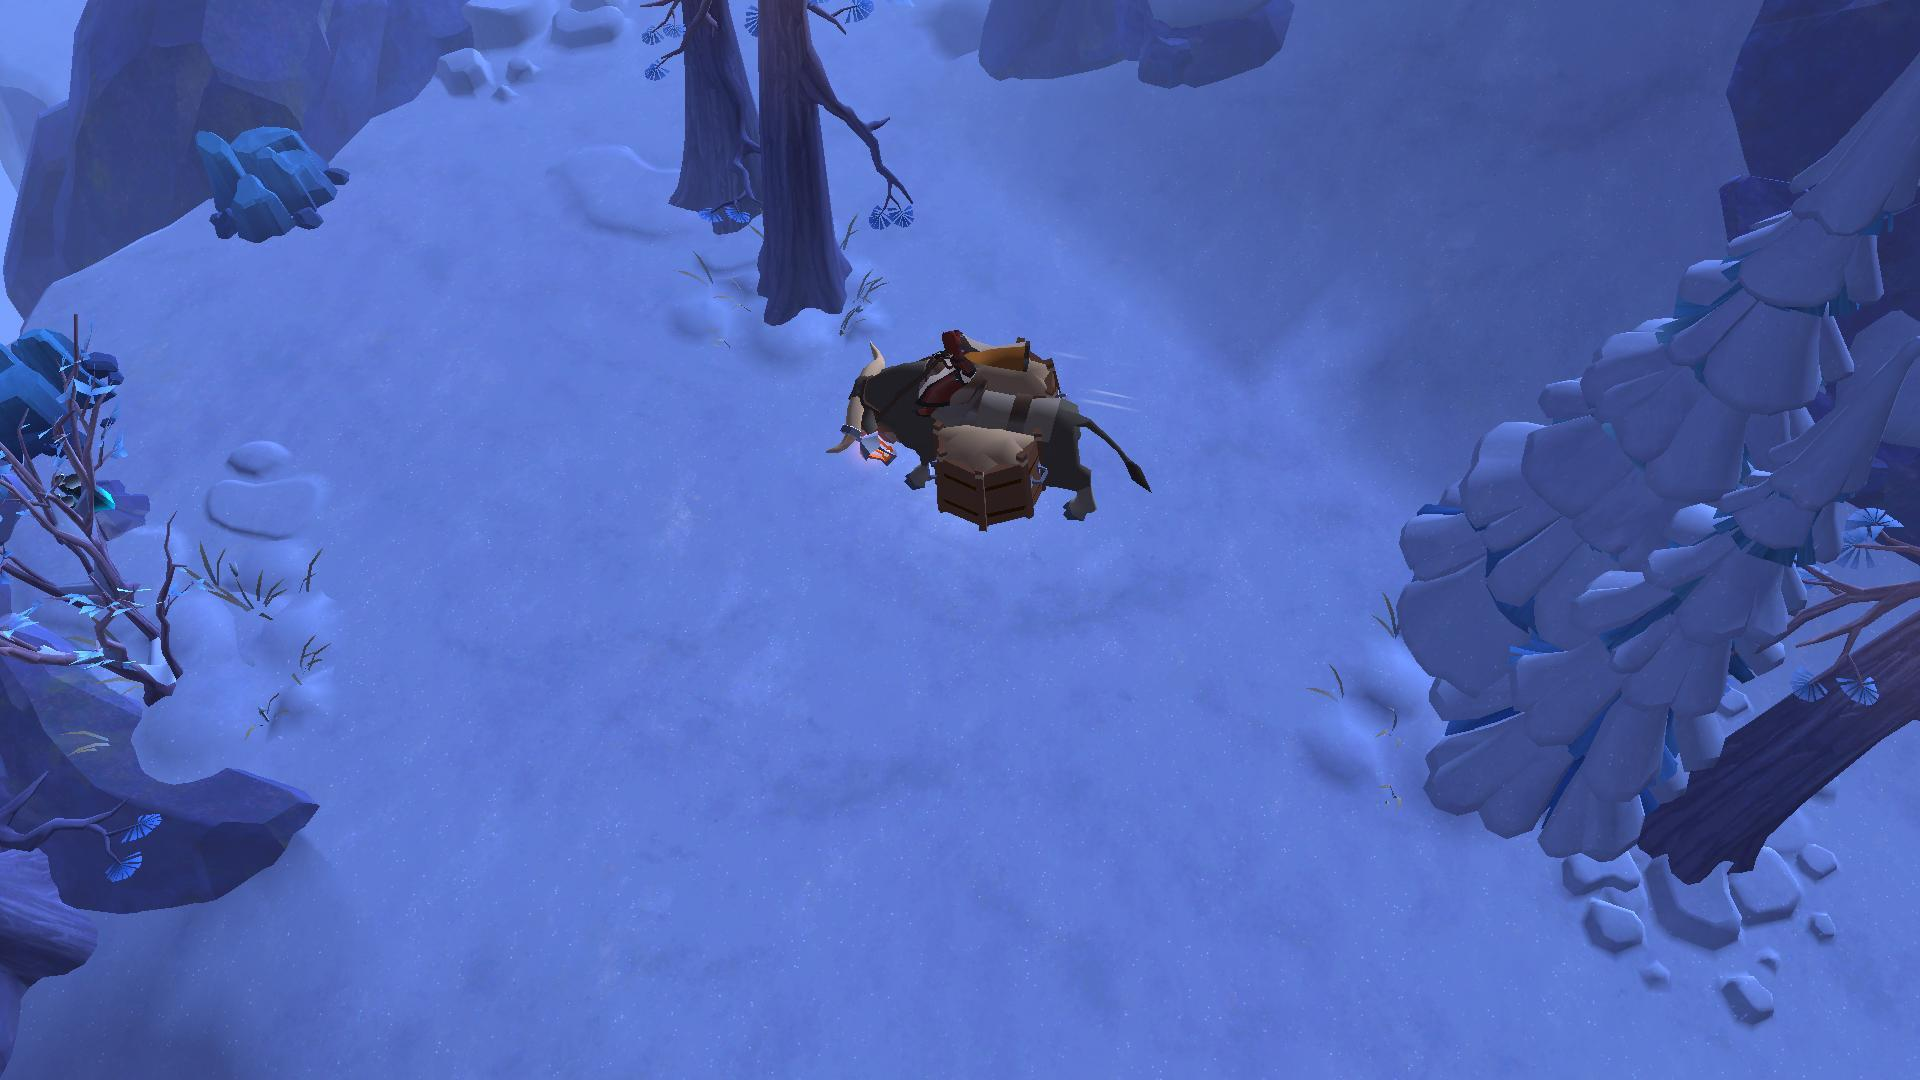rock_t4: (182, 120, 353, 243), (0, 324, 125, 448)
